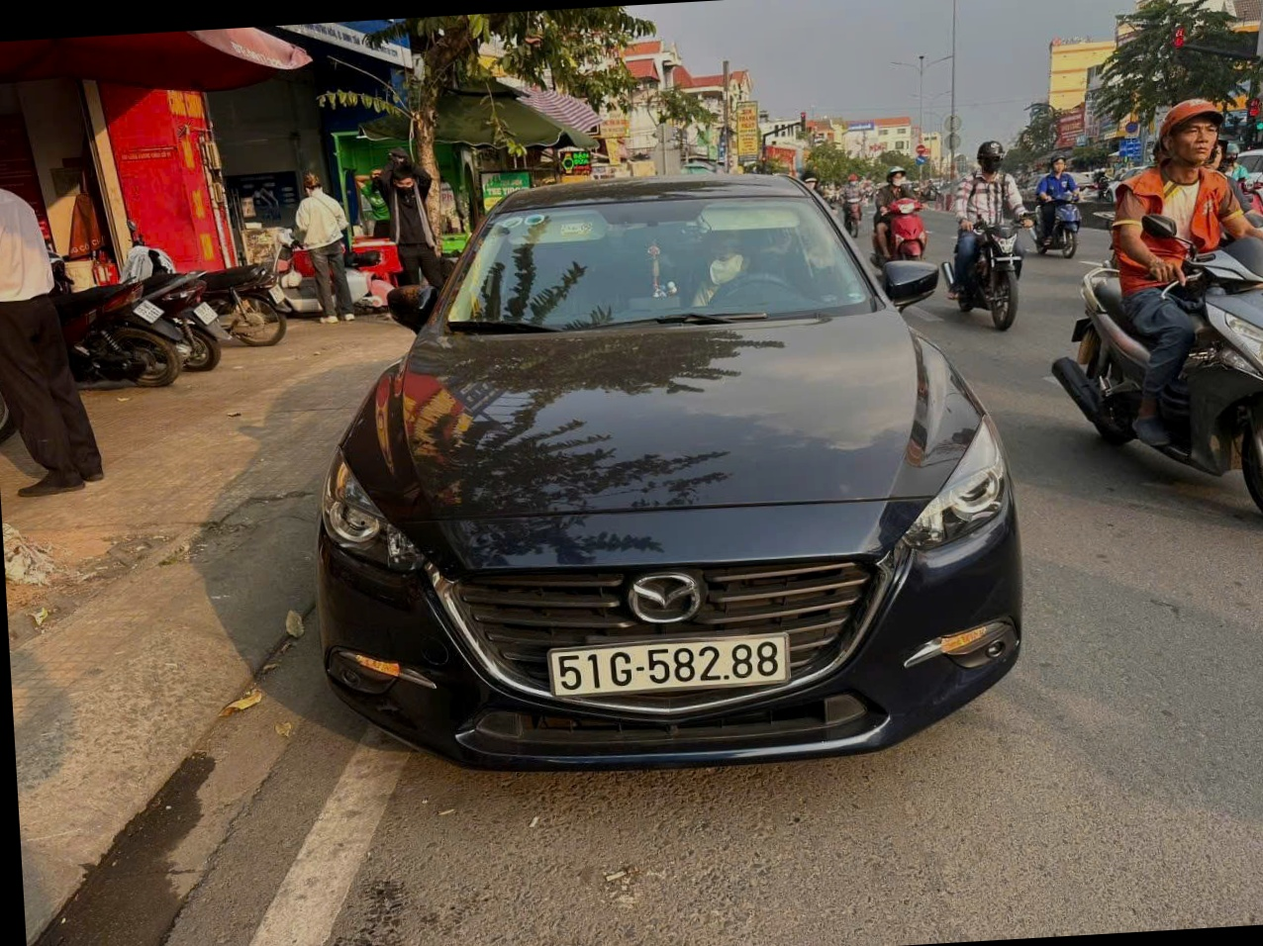Bien-so: (565, 622, 793, 692)
